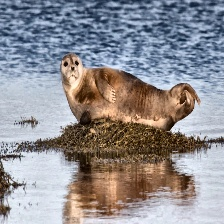seal: (59, 53, 199, 132)
